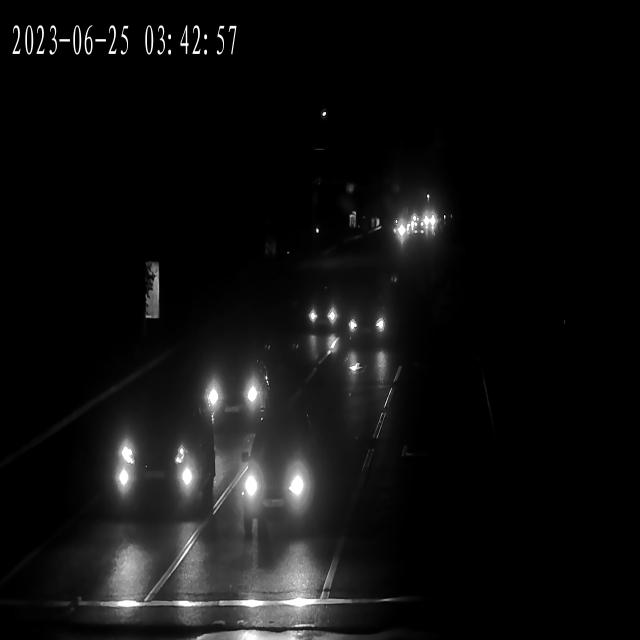Car: (102, 400, 215, 509), (240, 424, 320, 524), (195, 348, 269, 427), (344, 297, 390, 344), (347, 338, 388, 383), (300, 296, 338, 333), (421, 212, 442, 237), (396, 224, 414, 246), (409, 212, 419, 236)
